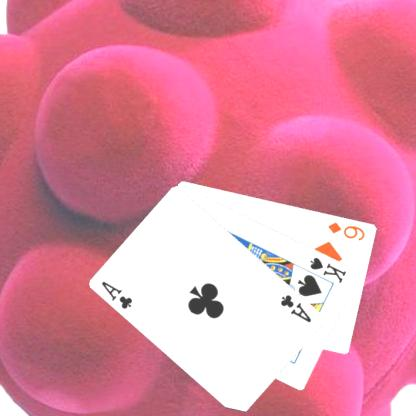6D: (326, 219, 366, 242)
AC: (98, 278, 134, 311), (278, 292, 313, 324)
KS: (307, 254, 348, 284)
